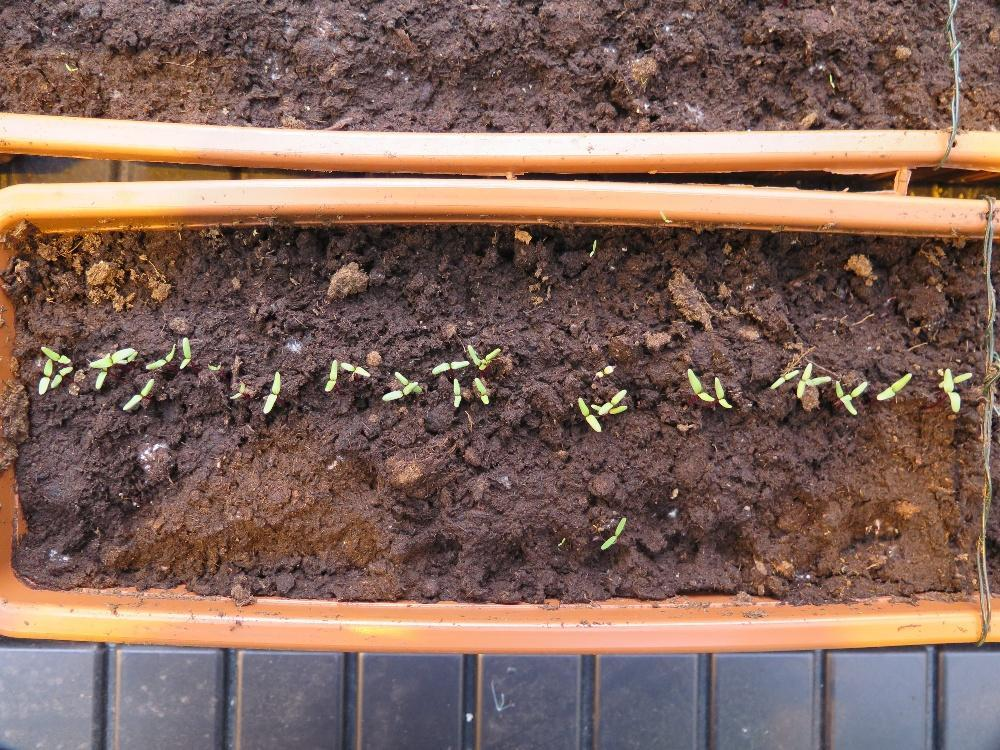crop: (120, 375, 154, 410), (874, 371, 912, 401), (143, 341, 176, 371), (685, 367, 713, 402), (262, 368, 280, 413), (430, 357, 469, 374), (713, 374, 732, 407), (338, 359, 371, 377), (591, 361, 617, 380), (323, 357, 337, 392), (472, 374, 488, 404), (178, 334, 190, 370), (227, 379, 244, 399), (451, 376, 461, 407), (205, 360, 222, 371)
weed: (599, 514, 626, 551), (587, 237, 596, 257), (827, 72, 834, 89), (555, 534, 565, 545)
